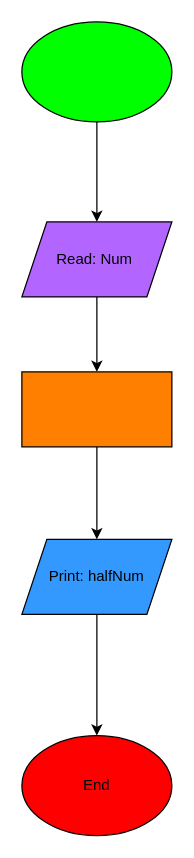
Some shapes in this 194 by 858 pixel diagram are drawn without their labels. The shapes that lost their labels are listed below. From the top down, each one's centre as x and y in pixels, then its label:
At [96,71]: "Start".
At [96,409]: "half Num = Nam / 2".
